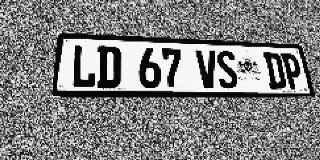6: (138, 47, 162, 88)
7: (161, 48, 184, 88)
D: (96, 46, 121, 88), (263, 52, 287, 89)
L: (70, 45, 97, 88)
P: (280, 53, 305, 89)
S: (215, 50, 239, 89)
V: (195, 50, 219, 89)
